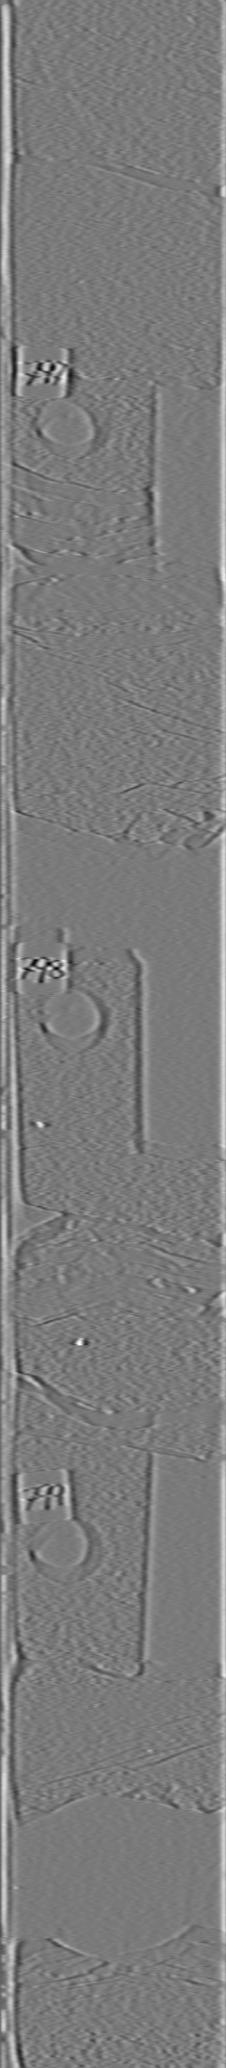hplug: (28, 1511, 111, 1591), (34, 984, 114, 1062), (30, 390, 114, 460)
scal: (48, 1784, 197, 1969)
vplug: (128, 1445, 214, 1688), (128, 960, 219, 1167), (143, 361, 218, 593)
